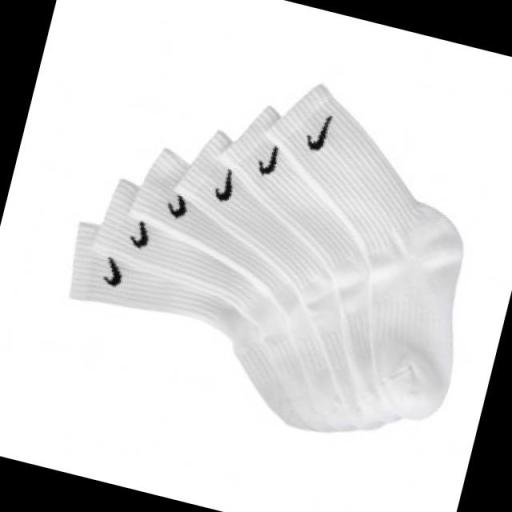Nike: (301, 106, 335, 156)
